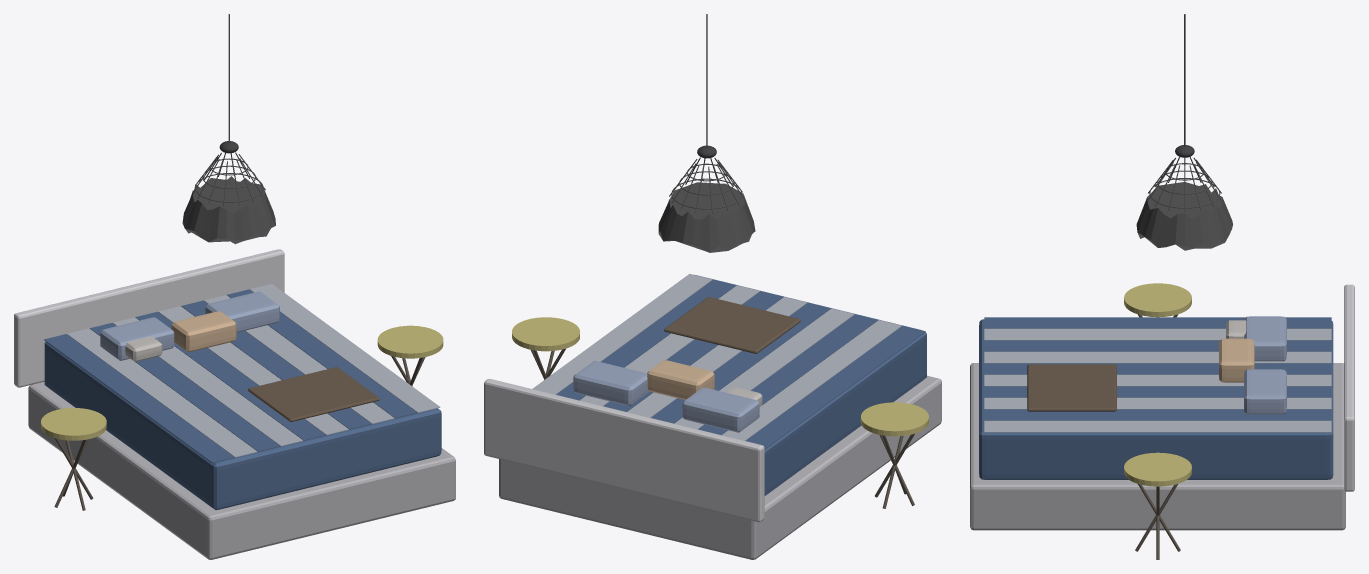
3 views of the same model, side by side, from view 1: azimuth 30°, elevation 25°; view 2: azimuth 150°, elevation 25°; view 3: azimuth 270°, elevation 25° (orthographic). The views are drawn at different scales.
Visible parts, largest first — view 1: bedframe, mattress, headboard, shade, throw, st0, st9, st1, st3, st2, st8, st4 (+9 smaller); view 2: headboard, bedframe, mattress, shade, throw, st0, st9, st1, st2, st3, st8, pl (+8 smaller); view 3: bedframe, mattress, shade, st9, throw, st8, st3, st1, st0, st2, st7, st4 (+8 smaller).
Boxes of the visible parts, x1,y1,x2,y2 form: bedframe: [28, 381, 455, 559]; mattress: [44, 341, 441, 510]; headboard: [14, 249, 284, 387]; shade: [182, 176, 275, 244]; throw: [248, 367, 379, 421]; st0: [44, 334, 234, 462]; st9: [250, 284, 440, 412]; st1: [67, 328, 257, 457]; st3: [113, 317, 303, 446]; st2: [90, 323, 280, 451]; st8: [227, 289, 417, 418]; st4: [135, 311, 325, 440]; headboard: [484, 378, 764, 522]; bedframe: [499, 375, 941, 559]; mattress: [694, 274, 926, 495]; shade: [658, 182, 755, 252]; throw: [664, 297, 800, 353]; st0: [745, 326, 925, 449]; st9: [532, 273, 712, 394]; st1: [722, 320, 901, 440]; st2: [698, 314, 878, 435]; st3: [674, 308, 854, 429]; st8: [556, 279, 736, 400]; pl: [682, 387, 759, 432]; bedframe: [970, 363, 1345, 530]; mattress: [979, 319, 1333, 479]; shade: [1136, 182, 1232, 250]; st9: [984, 420, 1331, 432]; throw: [1027, 364, 1116, 411]; st8: [984, 409, 1331, 420]; st3: [984, 351, 1331, 363]; st1: [984, 328, 1331, 340]; st0: [984, 317, 1331, 328]; st2: [984, 340, 1331, 351]; st7: [984, 397, 1331, 409]; st4: [984, 363, 1331, 374].
Size of the model in its own units: 2.62 by 2.81 by 2.15.
